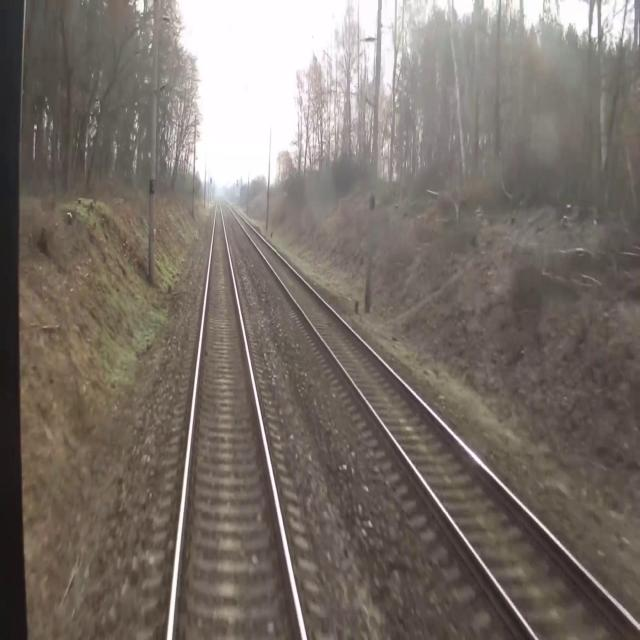rail-track: (223, 198, 640, 639), (172, 198, 302, 639)
